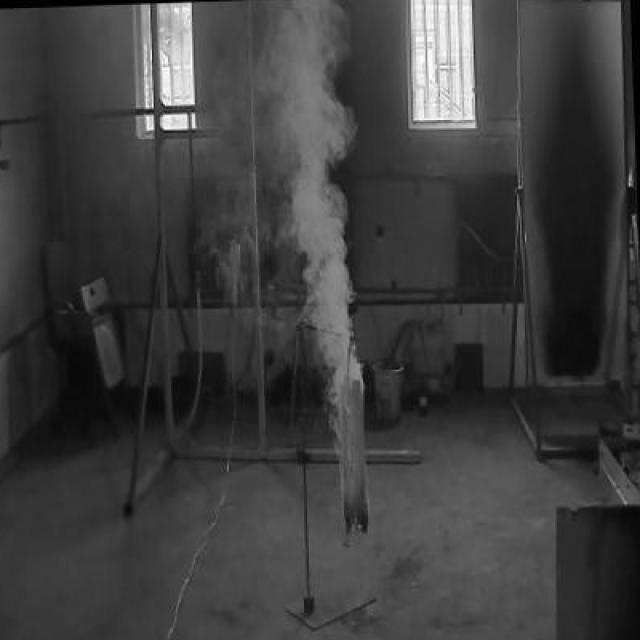fire: (251, 0, 368, 382)
